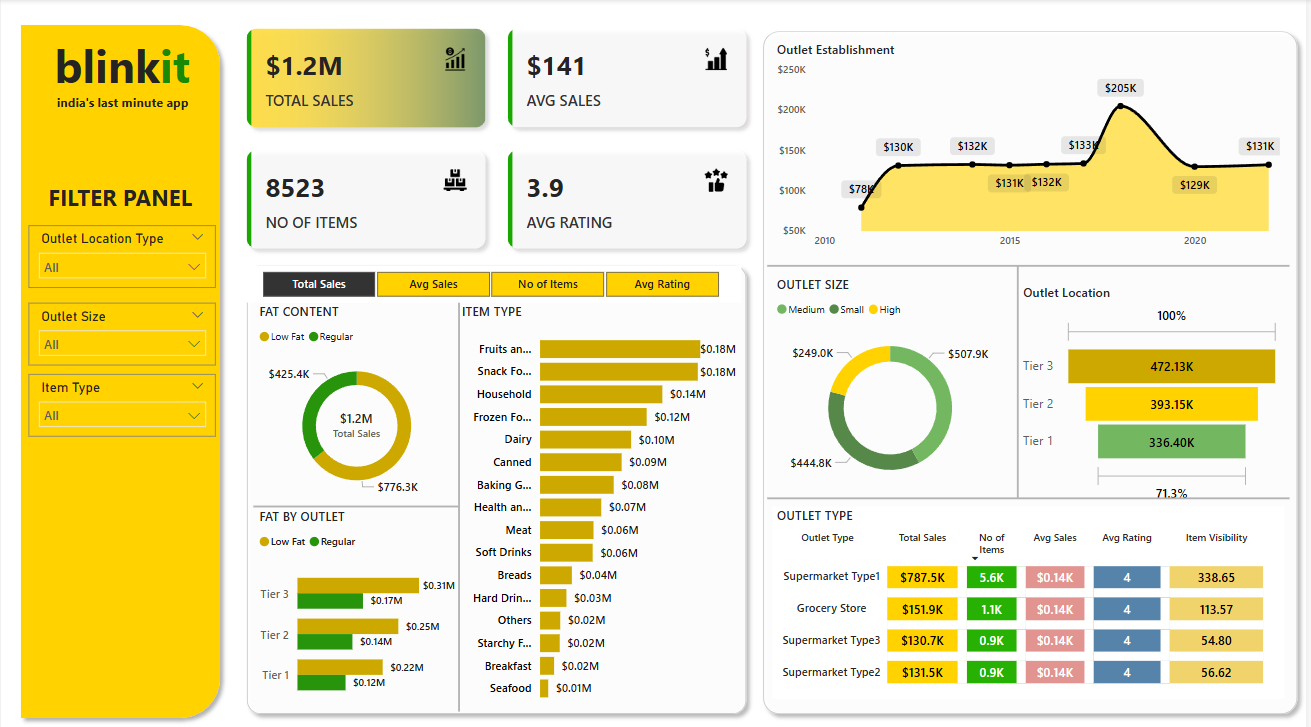

What the dashboard file says about the page in this screenshot:
{"tool":"powerbi","page":{"name":"Page 1","canvas":[1400,800],"ordinal":0},"visuals":[{"type":"shape","box":[12.1,18.8,231.9,761.4],"z":0},{"type":"textbox","box":[30,33,201.1,81],"z":1000},{"type":"textbox","box":[45,96.1,169.6,36],"z":2000},{"type":"cardVisual","fields":{"Data":["BlinkIT Grocery Data.Total Sales","BlinkIT Grocery Data.Avg Sales","BlinkIT Grocery Data.No of Items","BlinkIT Grocery Data.Avg Rating"]},"box":[246.1,15,570.3,270.2],"z":3000},{"type":"shape","box":[255.1,276.2,553.8,499.8],"z":4000},{"type":"donutChart","title":"FAT CONTENT","fields":{"Y":["BlinkIT Grocery Data.Total Sales"],"Category":["BlinkIT Grocery Data.Item Fat Content"]},"box":[271.7,325.7,219.1,219.1],"z":5000},{"type":"slicer","fields":{"Values":["Metrics.Metrics"]},"box":[254.7,285.5,538.9,40.2],"z":6000},{"type":"cardVisual","fields":{"Data":["BlinkIT Grocery Data.Total Sales"]},"box":[313.7,423.6,135.4,59],"z":7000},{"type":"clusteredBarChart","title":"FAT BY OUTLET","fields":{"Y":["BlinkIT Grocery Data.Total Sales"],"Category":["BlinkIT Grocery Data.Outlet Location Type"],"Series":["BlinkIT Grocery Data.Item Fat Content"]},"box":[272.1,545.6,219.8,219.8],"z":8000},{"type":"shape","box":[270.8,529.5,219.8,29.5],"z":9000},{"type":"shape","box":[473.2,325.7,36.2,438.3],"z":10000},{"type":"barChart","title":"ITEM TYPE","fields":{"Y":["BlinkIT Grocery Data.Total Sales"],"Category":["BlinkIT Grocery Data.Item Type"]},"box":[489.3,325.7,304.3,438.3],"z":11000},{"type":"shape","box":[808.3,25.5,591.2,750.7],"z":12000},{"type":"lineChart","title":"Outlet Establishment","fields":{"Y":["BlinkIT Grocery Data.Total Sales"],"Category":["BlinkIT Grocery Data.Outlet Establishment Year"]},"box":[827.1,44.2,549.6,231.9],"z":13000},{"type":"shape","box":[821.7,276.1,560.3,20.1],"z":14000},{"type":"donutChart","title":"OUTLET SIZE","fields":{"Y":["BlinkIT Grocery Data.Total Sales"],"Category":["BlinkIT Grocery Data.Outlet Size"]},"box":[827.1,296.2,253.4,239.9],"z":15000},{"type":"shape","box":[1072.4,285.5,36.2,250.7],"z":16000},{"type":"funnel","title":"Outlet Location","fields":{"Y":["Sum(BlinkIT Grocery Data.Sales)"],"Category":["BlinkIT Grocery Data.Outlet Location Type"]},"box":[1091.2,305.6,285.5,239.9],"z":17000},{"type":"pivotTable","title":"OUTLET TYPE","fields":{"Rows":["BlinkIT Grocery Data.Outlet Type"],"Values":["BlinkIT Grocery Data.Total Sales","BlinkIT Grocery Data.No of Items","BlinkIT Grocery Data.Avg Sales","BlinkIT Grocery Data.Avg Rating","Sum(BlinkIT Grocery Data.Item Visibility)"]},"box":[827.1,544.2,549.6,206.4],"z":18000},{"type":"shape","box":[821.7,525.5,560.3,20.1],"z":19000},{"type":"slicer","fields":{"Values":["BlinkIT Grocery Data.Outlet Location Type"]},"box":[29.5,242.6,201.1,67],"z":20000},{"type":"slicer","fields":{"Values":["BlinkIT Grocery Data.Outlet Size"]},"box":[29.5,325.7,201.1,67],"z":21000},{"type":"slicer","fields":{"Values":["BlinkIT Grocery Data.Item Type"]},"box":[29.5,402.1,201.1,67],"z":22000},{"type":"textbox","box":[40.2,191.7,175.6,50.9],"z":23000}]}

Visuals, with their boxes on the page's 1400x800 design canvas (x1, y1, x2, y2). These are canvas units, not pixel positions in the 1311x727 screenshot, which may show the page scaled, cropped or inside an application window:
shape: 12 19 244 780
textbox: 30 33 231 114
textbox: 45 96 215 132
cardVisual - BlinkIT Grocery Data.Total Sales x BlinkIT Grocery Data.Avg Sales: 246 15 816 285
shape: 255 276 809 776
"FAT CONTENT" donutChart: 272 326 491 545
slicer - Metrics.Metrics: 255 286 794 326
cardVisual - BlinkIT Grocery Data.Total Sales: 314 424 449 483
"FAT BY OUTLET" clusteredBarChart: 272 546 492 765
shape: 271 530 491 559
shape: 473 326 509 764
"ITEM TYPE" barChart: 489 326 794 764
shape: 808 26 1400 776
"Outlet Establishment" lineChart: 827 44 1377 276
shape: 822 276 1382 296
"OUTLET SIZE" donutChart: 827 296 1080 536
shape: 1072 286 1109 536
"Outlet Location" funnel: 1091 306 1377 546
"OUTLET TYPE" pivotTable: 827 544 1377 751
shape: 822 526 1382 546
slicer - BlinkIT Grocery Data.Outlet Location Type: 30 243 231 310
slicer - BlinkIT Grocery Data.Outlet Size: 30 326 231 393
slicer - BlinkIT Grocery Data.Item Type: 30 402 231 469
textbox: 40 192 216 243
